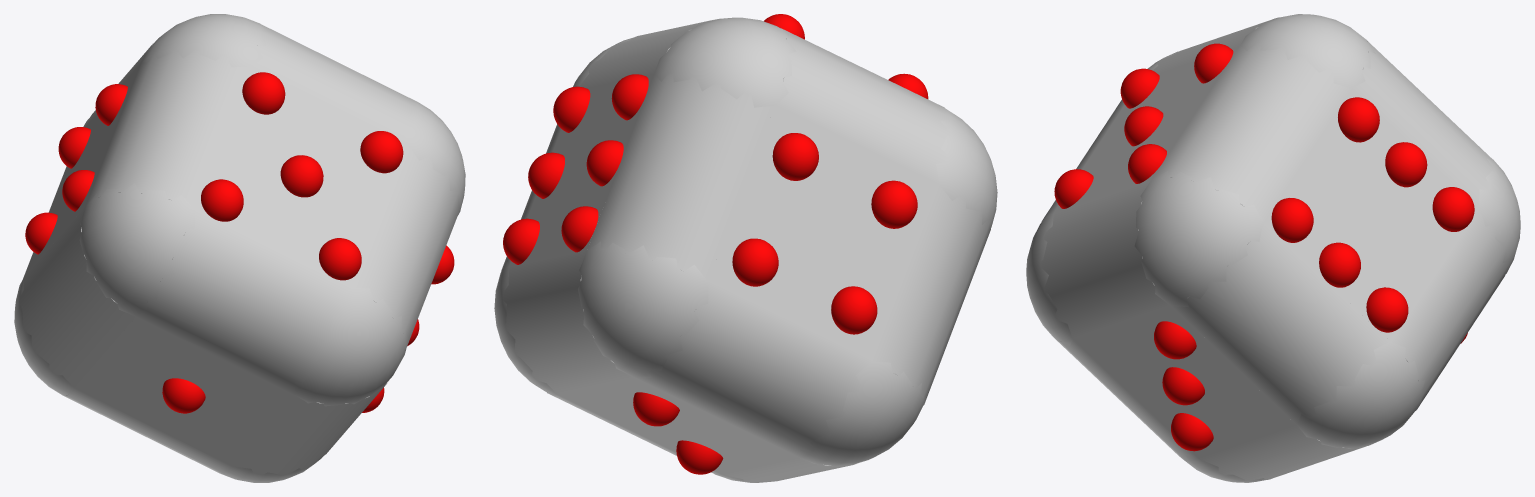
The model's file is Dice.fbx.
3 renders of one model, left to right at view 1: azimuth 30°, elevation 25°; view 2: azimuth 150°, elevation 25°; view 3: azimuth 270°, elevation 25°, orthographic. The views are drawn at different scales.
Visible parts, largest first — view 1: Capsule__5_, Cube, Capsule, Cube__2_, Capsule__1_, Sphere__2_, Capsule__10_, Sphere__6_, Capsule__4_, Capsule__11_, Sphere, Sphere__4_ (+15 smaller); view 2: Cube__1_, Capsule__8_, Capsule__2_, Capsule, Sphere__1_, Capsule__10_, Capsule__6_, Sphere, Cube, Cube__2_, Sphere__3_, Sphere__2_ (+15 smaller); view 3: Capsule__9_, Cube__2_, Capsule__4_, Cube__1_, Capsule__1_, Sphere__4_, Capsule__6_, Sphere__5_, Capsule__8_, Cube, Sphere, Capsule__3_ (+20 smaller).
Boxes of the visible parts, left/top/right/bottom form: Capsule__5_: left=137, top=210, right=351, bottom=394; Cube: left=195, top=67, right=407, bottom=287; Capsule: left=86, top=50, right=249, bottom=208; Cube__2_: left=75, top=317, right=293, bottom=465; Capsule__1_: left=352, top=145, right=461, bottom=350; Sphere__2_: left=79, top=183, right=194, bottom=316; Capsule__10_: left=19, top=206, right=136, bottom=387; Sphere__6_: left=294, top=287, right=407, bottom=406; Capsule__4_: left=250, top=24, right=417, bottom=144; Capsule__11_: left=232, top=379, right=389, bottom=475; Sphere: left=141, top=14, right=269, bottom=67; Sphere__4_: left=404, top=101, right=465, bottom=214; Cube__1_: left=708, top=106, right=939, bottom=361; Capsule__8_: left=587, top=73, right=774, bottom=281; Capsule__2_: left=636, top=282, right=872, bottom=457; Capsule: left=775, top=28, right=952, bottom=185; Sphere__1_: left=578, top=241, right=708, bottom=378; Capsule__10_: left=873, top=186, right=990, bottom=405; Capsule__6_: left=502, top=250, right=634, bottom=394; Sphere: left=654, top=17, right=796, bottom=107; Cube: left=558, top=378, right=799, bottom=474; Cube__2_: left=509, top=74, right=653, bottom=266; Sphere__3_: left=800, top=361, right=925, bottom=466; Sphere__2_: left=936, top=106, right=997, bottom=232; Capsule__9_: left=1171, top=222, right=1389, bottom=424; Cube__2_: left=1264, top=89, right=1478, bottom=341; Capsule__4_: left=1152, top=43, right=1351, bottom=221; Cube__1_: left=1073, top=306, right=1296, bottom=458; Capsule__1_: left=1040, top=179, right=1170, bottom=339; Sphere__4_: left=1134, top=171, right=1263, bottom=307; Capsule__6_: left=1390, top=208, right=1509, bottom=410; Sphere__5_: left=1297, top=342, right=1425, bottom=448; Capsule__8_: left=1352, top=41, right=1495, bottom=207; Cube: left=1054, top=45, right=1239, bottom=212; Sphere: left=1240, top=14, right=1375, bottom=88; Capsule__3_: left=1200, top=426, right=1366, bottom=481.
Size of the model in its own units: 24.09 by 26.97 by 27.09.
